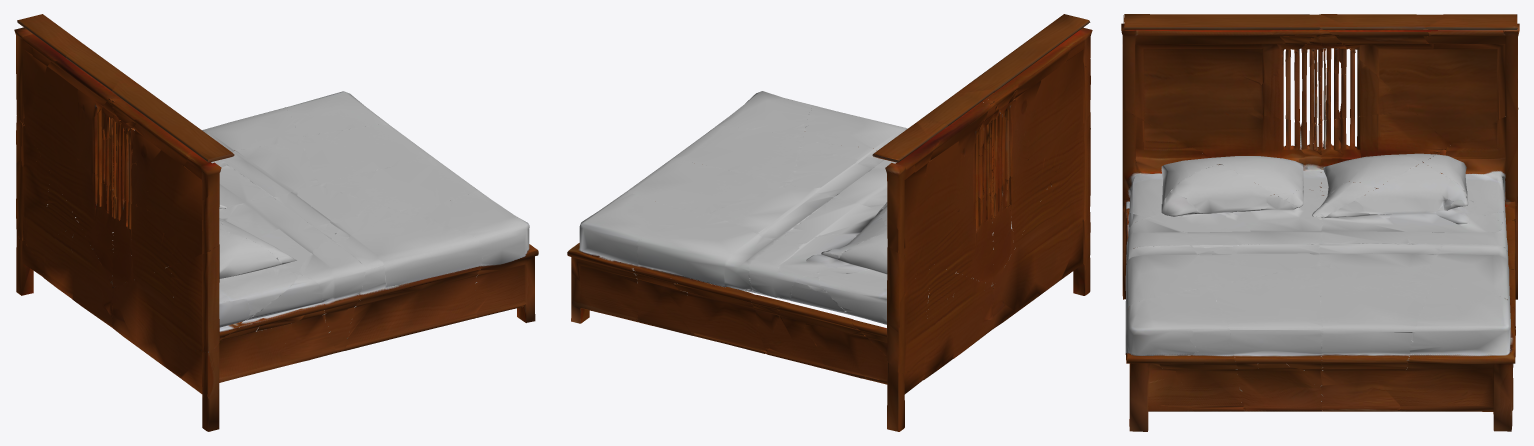
The model's file is bed-tripo.glb.
3 views of the same model, side by side, from view 1: azimuth 30°, elevation 25°; view 2: azimuth 150°, elevation 25°; view 3: azimuth 270°, elevation 25° (orthographic). The views are drawn at different scales.
Parts seen in each view (by area): view 1: tripo_node_26721ce1-2100-4f15-9ee9-94ee3e24c0ff; view 2: tripo_node_26721ce1-2100-4f15-9ee9-94ee3e24c0ff; view 3: tripo_node_26721ce1-2100-4f15-9ee9-94ee3e24c0ff.
Boxes of the visible parts, bbox=[...] form: tripo_node_26721ce1-2100-4f15-9ee9-94ee3e24c0ff: bbox=[14, 14, 538, 431]; tripo_node_26721ce1-2100-4f15-9ee9-94ee3e24c0ff: bbox=[567, 14, 1092, 431]; tripo_node_26721ce1-2100-4f15-9ee9-94ee3e24c0ff: bbox=[1121, 14, 1519, 431].
Bounding box in the file's own units: 0.9991 × 0.7773 × 1.
Materials: 1 (1 with a texture image).
